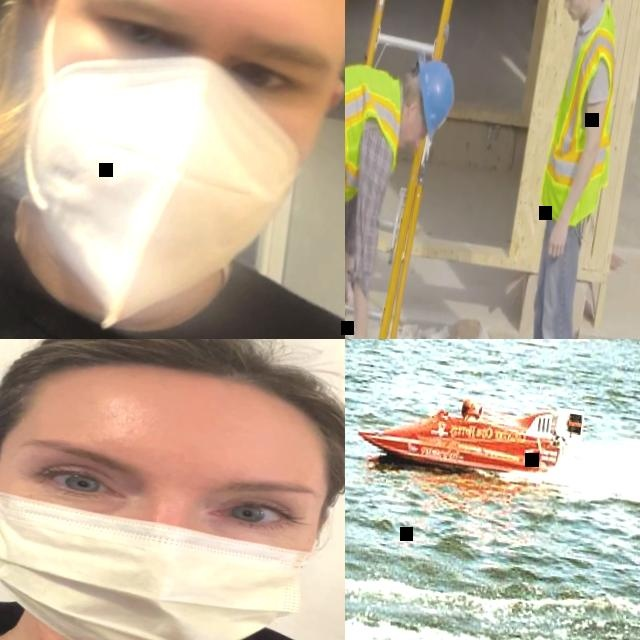Hardhat: (403, 52, 462, 150), (459, 399, 477, 417)
Mask: (0, 31, 317, 339), (0, 463, 332, 640)
NO-Hardhat: (0, 339, 345, 469)
NO-Mask: (398, 111, 418, 151), (566, 2, 586, 29)
NO-Safety Vest: (0, 156, 345, 339)
Person: (0, 0, 345, 339), (0, 339, 345, 640), (499, 0, 640, 339), (345, 28, 460, 339), (458, 399, 478, 424)
Safety Vest: (536, 1, 637, 232), (345, 55, 410, 202)
